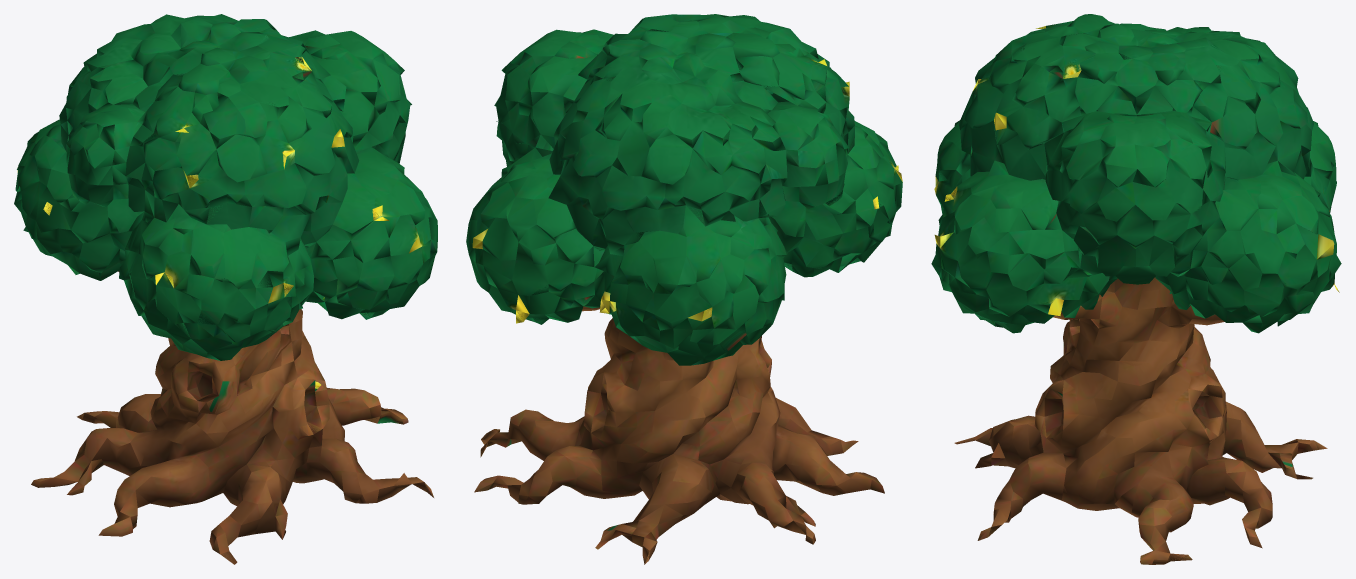
Rendered from bosque_arbolgrande1.glb.
The picture shows the model from 3 angles, left to right: view 1: azimuth 30°, elevation 25°; view 2: azimuth 150°, elevation 25°; view 3: azimuth 270°, elevation 25°; orthographic projection. The views are drawn at different scales.
Visible parts, largest first — view 1: tripo_node_9f70569f-937c-4bf2-bb0f-551f9806885f; view 2: tripo_node_9f70569f-937c-4bf2-bb0f-551f9806885f; view 3: tripo_node_9f70569f-937c-4bf2-bb0f-551f9806885f.
Part boxes in pixels (box(x1,y1,x2,y2)): tripo_node_9f70569f-937c-4bf2-bb0f-551f9806885f: box(14, 14, 437, 564); tripo_node_9f70569f-937c-4bf2-bb0f-551f9806885f: box(466, 14, 902, 564); tripo_node_9f70569f-937c-4bf2-bb0f-551f9806885f: box(931, 14, 1341, 564).
Size of the model in its own units: 0.869 by 0.9884 by 0.8228.
1 material, 1 textured.
